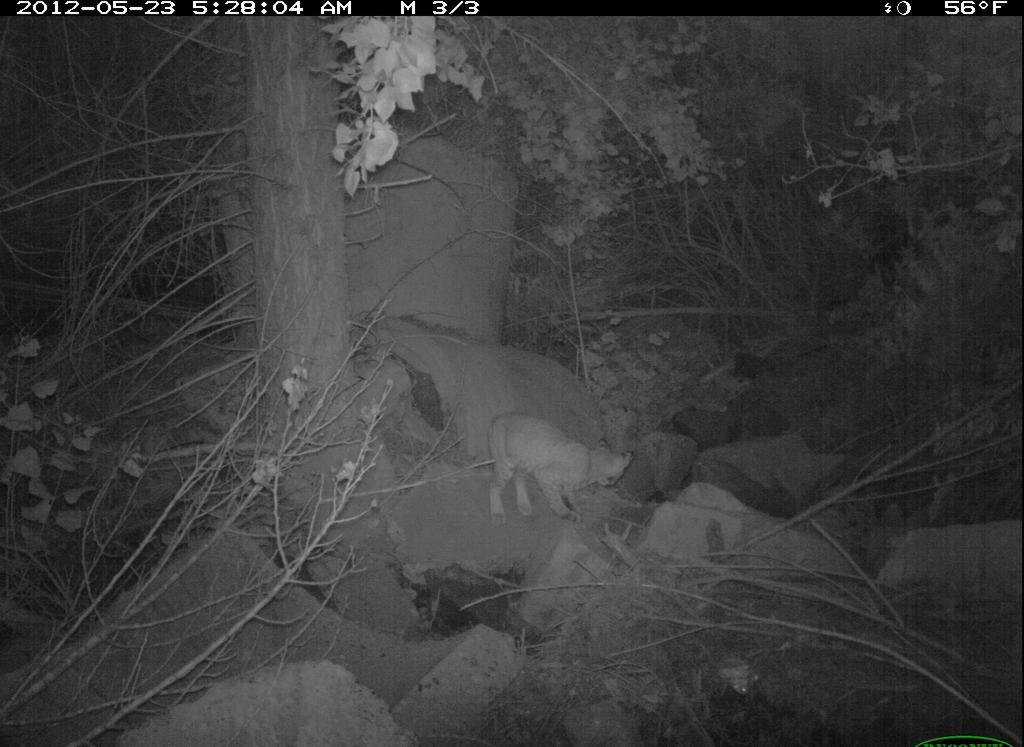bobcat: (473, 400, 639, 536)
